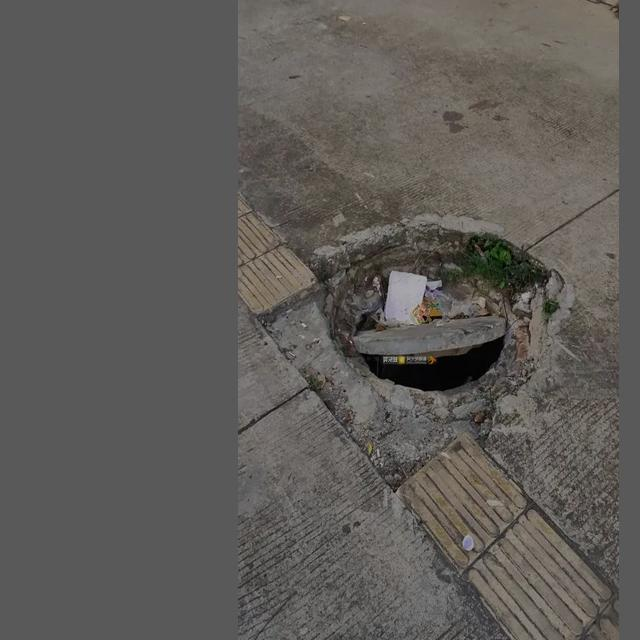circle: (274, 207, 586, 473)
